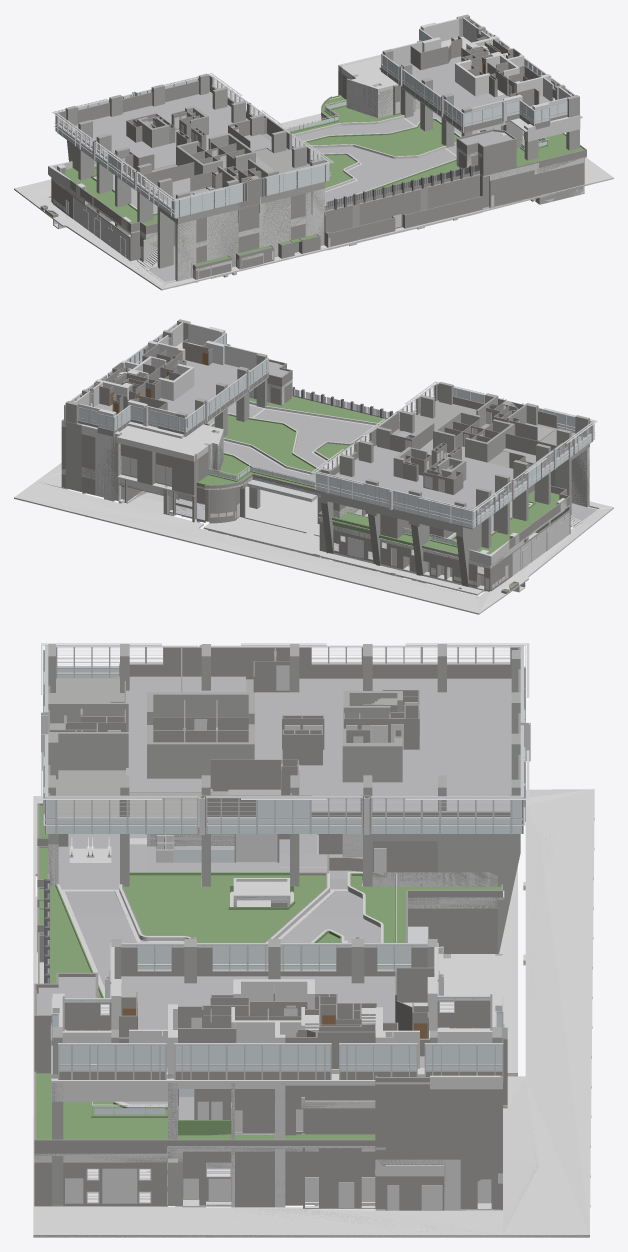
3 renders of one model, top to bottom at view 1: azimuth 30°, elevation 25°; view 2: azimuth 150°, elevation 25°; view 3: azimuth 270°, elevation 25°, orthographic. The views are drawn at different scales.
Parts seen in each view (by area): view 1: 2F; view 2: 2F; view 3: 2F.
Boxes of the visible parts, <box> form: 2F: <box>14,14,613,290</box>; 2F: <box>14,319,613,614</box>; 2F: <box>33,643,594,1237</box>.
Bounding box in the file's own units: 84.14 × 18 × 44.48.
